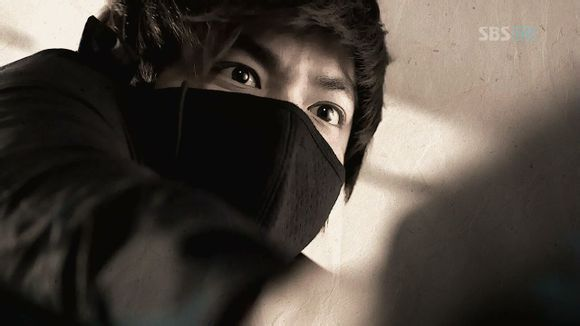face_mask: (140, 21, 353, 260)
